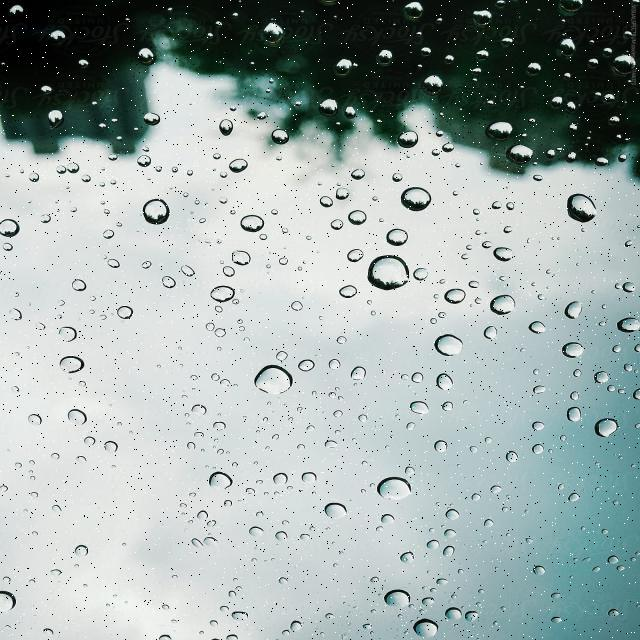raindrop: (354, 246, 420, 298), (558, 182, 610, 230), (359, 470, 418, 512), (247, 358, 302, 402), (387, 174, 437, 222), (420, 328, 470, 366), (218, 140, 264, 180), (200, 464, 243, 500), (373, 580, 421, 612), (583, 414, 631, 446), (135, 190, 173, 230), (480, 288, 524, 322), (314, 494, 354, 530), (228, 208, 276, 238), (52, 348, 94, 380), (380, 218, 416, 254), (602, 49, 640, 83), (395, 611, 441, 639), (492, 142, 534, 172), (548, 334, 594, 360), (0, 200, 25, 242), (523, 313, 559, 342), (200, 282, 240, 308), (548, 32, 580, 64), (414, 70, 448, 99), (222, 240, 252, 272), (483, 116, 515, 146), (255, 16, 287, 46), (609, 311, 640, 340), (321, 51, 352, 80), (557, 400, 587, 428), (138, 104, 168, 132), (268, 122, 296, 152), (128, 40, 158, 68), (42, 103, 70, 133), (208, 113, 239, 140), (312, 94, 338, 125), (392, 0, 432, 20), (560, 295, 587, 324), (468, 7, 504, 28), (64, 404, 90, 433), (492, 240, 522, 265), (404, 396, 434, 420), (0, 582, 21, 616), (53, 321, 78, 347), (439, 287, 468, 309), (345, 205, 372, 228), (391, 129, 418, 152), (370, 45, 397, 68), (438, 504, 466, 526), (345, 360, 370, 384), (296, 466, 322, 489), (3, 302, 26, 328), (132, 148, 154, 175), (433, 371, 457, 395), (502, 444, 526, 468), (267, 466, 290, 491), (68, 274, 94, 296), (332, 284, 363, 302), (436, 605, 465, 624), (281, 613, 307, 634), (225, 606, 252, 626), (526, 559, 554, 578), (427, 434, 451, 456), (116, 302, 138, 326), (591, 363, 612, 388), (477, 324, 503, 344), (68, 539, 90, 562), (22, 409, 45, 431), (99, 436, 123, 457), (100, 222, 121, 244), (399, 548, 421, 568), (156, 272, 180, 290), (332, 183, 352, 204), (438, 526, 464, 542), (319, 434, 342, 452), (244, 522, 269, 538), (178, 261, 198, 281), (210, 418, 232, 436), (313, 194, 336, 211), (268, 526, 288, 545), (349, 164, 368, 184), (461, 608, 482, 626), (327, 216, 348, 234), (188, 402, 210, 419), (415, 594, 438, 610), (376, 508, 396, 526), (406, 370, 426, 388), (296, 357, 316, 375), (101, 256, 122, 273), (546, 588, 568, 604), (431, 571, 450, 589), (564, 489, 584, 506), (192, 504, 210, 522), (324, 354, 342, 372), (287, 298, 305, 316), (440, 138, 458, 156), (34, 212, 54, 228), (420, 536, 440, 552), (438, 542, 458, 558), (605, 604, 625, 620), (22, 171, 42, 187), (546, 611, 567, 626), (528, 381, 549, 396), (530, 442, 546, 461), (202, 536, 223, 550), (64, 160, 81, 177), (488, 196, 504, 214), (530, 418, 546, 434), (187, 536, 202, 552), (359, 621, 377, 633), (606, 552, 621, 566), (78, 174, 93, 188), (213, 326, 227, 340), (322, 608, 335, 623), (206, 518, 219, 532), (276, 575, 290, 586)
